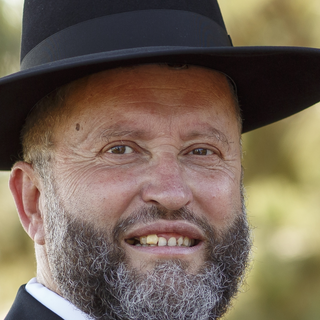eye: (97, 135, 147, 164), (177, 140, 225, 164)
